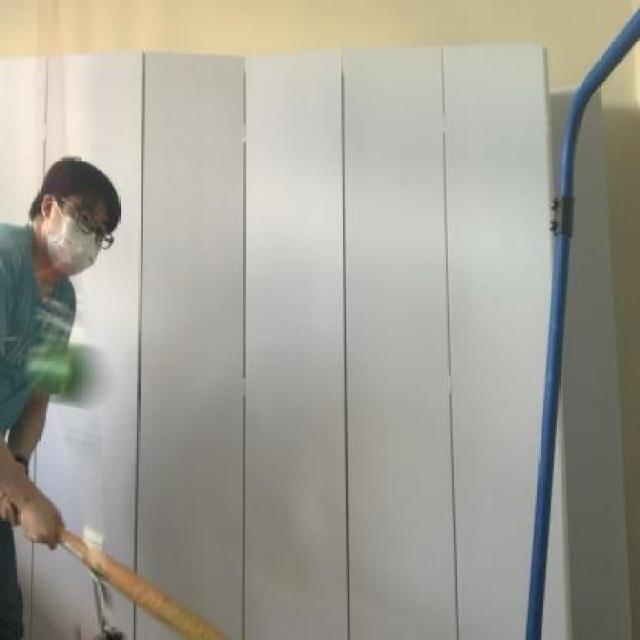baseball: (14, 338, 121, 411)
